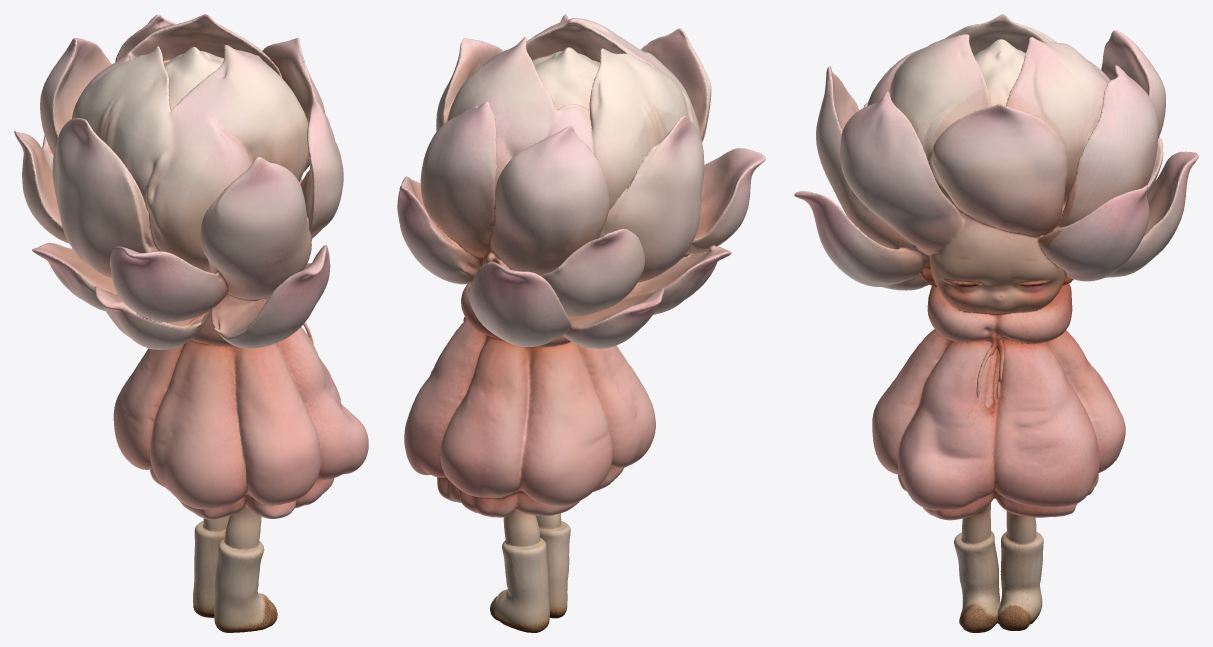
The picture shows the model from 3 angles, left to right: view 1: azimuth 30°, elevation 25°; view 2: azimuth 150°, elevation 25°; view 3: azimuth 270°, elevation 25°; orthographic projection. The views are drawn at different scales.
Visible parts, largest first — view 1: tripo_node_4961d2e0-1603-4749-9859-a5b858d96e6c; view 2: tripo_node_4961d2e0-1603-4749-9859-a5b858d96e6c; view 3: tripo_node_4961d2e0-1603-4749-9859-a5b858d96e6c.
Part boxes in pixels (x1=…): tripo_node_4961d2e0-1603-4749-9859-a5b858d96e6c: x1=14, y1=14, x2=368, y2=632; tripo_node_4961d2e0-1603-4749-9859-a5b858d96e6c: x1=397, y1=14, x2=765, y2=632; tripo_node_4961d2e0-1603-4749-9859-a5b858d96e6c: x1=794, y1=14, x2=1198, y2=632.
Bounding box in the file's own units: 0.4739 × 1 × 0.6317.
Materials: 1 (1 with a texture image).
